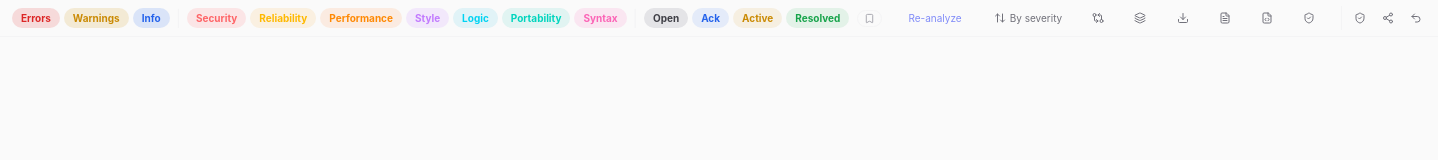
sort dropdown + chip counts (U2.3) › replaces the cycle button: opens a 3-option menu and applies the pick
Click the button with aria-label "change findings sort order".
click(1028, 18)  # box [988,7,1068,29]
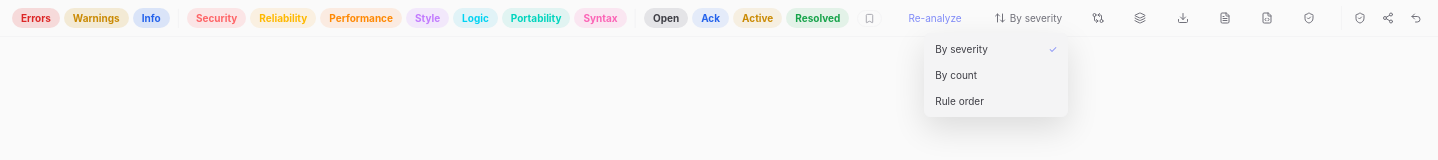
Check: the menu item "By count" is shown
Click the menu item "By count".
click(996, 75)  # box [925,62,1067,88]
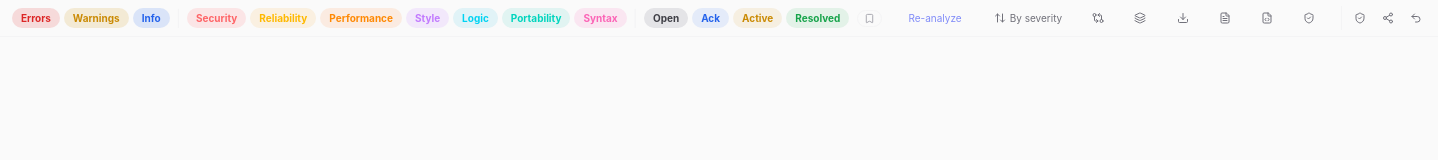
Check: the menu is gone
